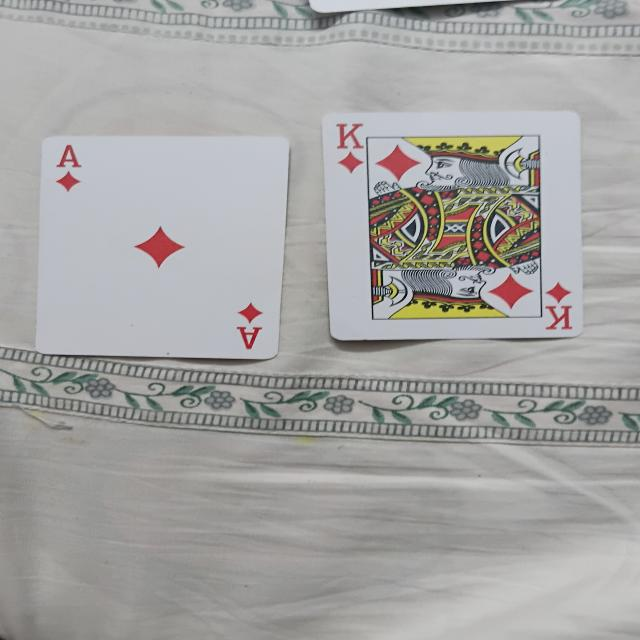AD: (38, 134, 287, 364)
KD: (316, 107, 590, 339)
